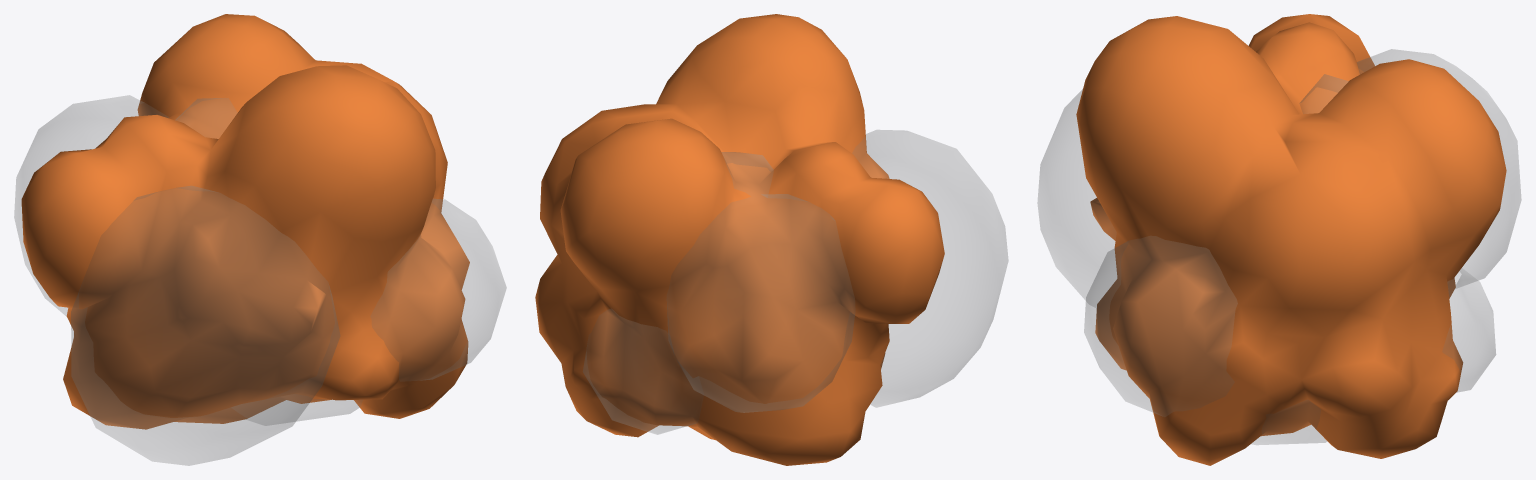
File: obj_resource_nimbolium.fbx
The picture shows the model from 3 angles, left to right: view 1: azimuth 30°, elevation 25°; view 2: azimuth 150°, elevation 25°; view 3: azimuth 270°, elevation 25°; orthographic projection. The views are drawn at different scales.
Visible parts, largest first — view 1: Sphere.010, Sphere.009; view 2: Sphere.010, Sphere.009; view 3: Sphere.010, Sphere.009.
Boxes of the visible parts, <box> form: Sphere.010: <box>21,14,469,429</box>; Sphere.009: <box>14,95,506,465</box>; Sphere.010: <box>535,14,944,465</box>; Sphere.009: <box>583,130,1008,434</box>; Sphere.010: <box>1076,14,1506,465</box>; Sphere.009: <box>1037,49,1521,444</box>.
Size of the model in its own units: 2.44 by 2.19 by 2.38.
